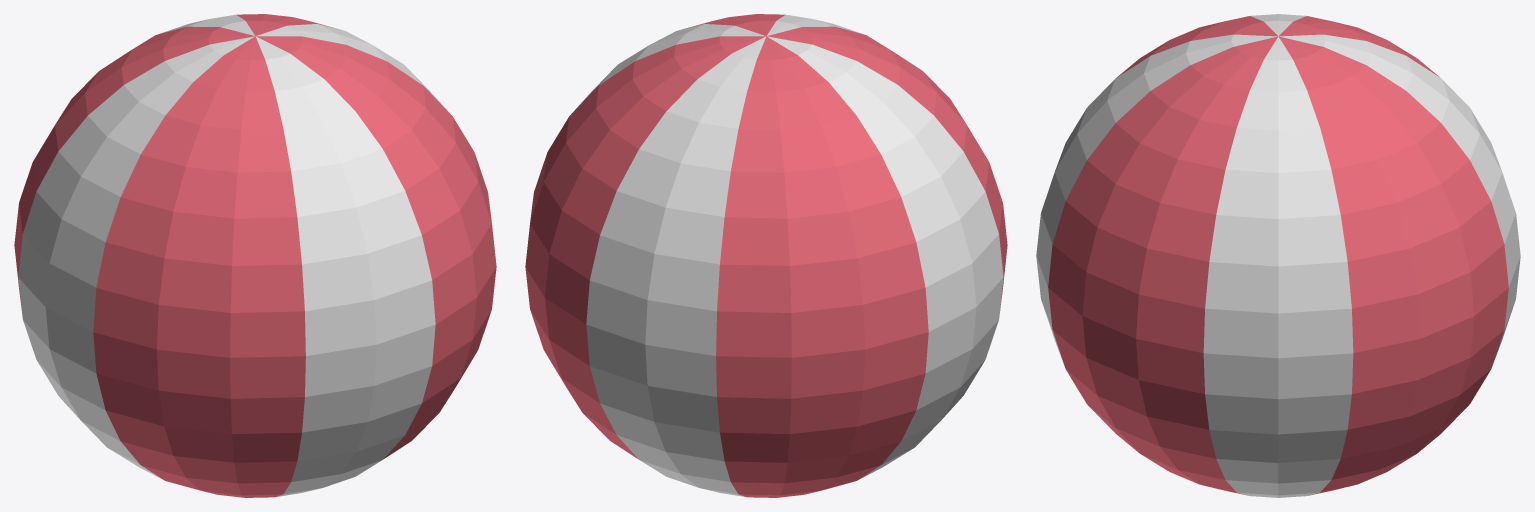
Rendered from ball.fbx.
The picture shows the model from 3 angles, left to right: view 1: azimuth 30°, elevation 25°; view 2: azimuth 150°, elevation 25°; view 3: azimuth 270°, elevation 25°; orthographic projection.
Parts seen in each view (by area): view 1: Sphere; view 2: Sphere; view 3: Sphere.
Boxes of the visible parts, x1,y1,x2,y2 form: Sphere: (14,14,496,497); Sphere: (525,14,1007,497); Sphere: (1036,14,1520,497).
Size of the model in its own units: 13.93 by 13.93 by 13.93.
